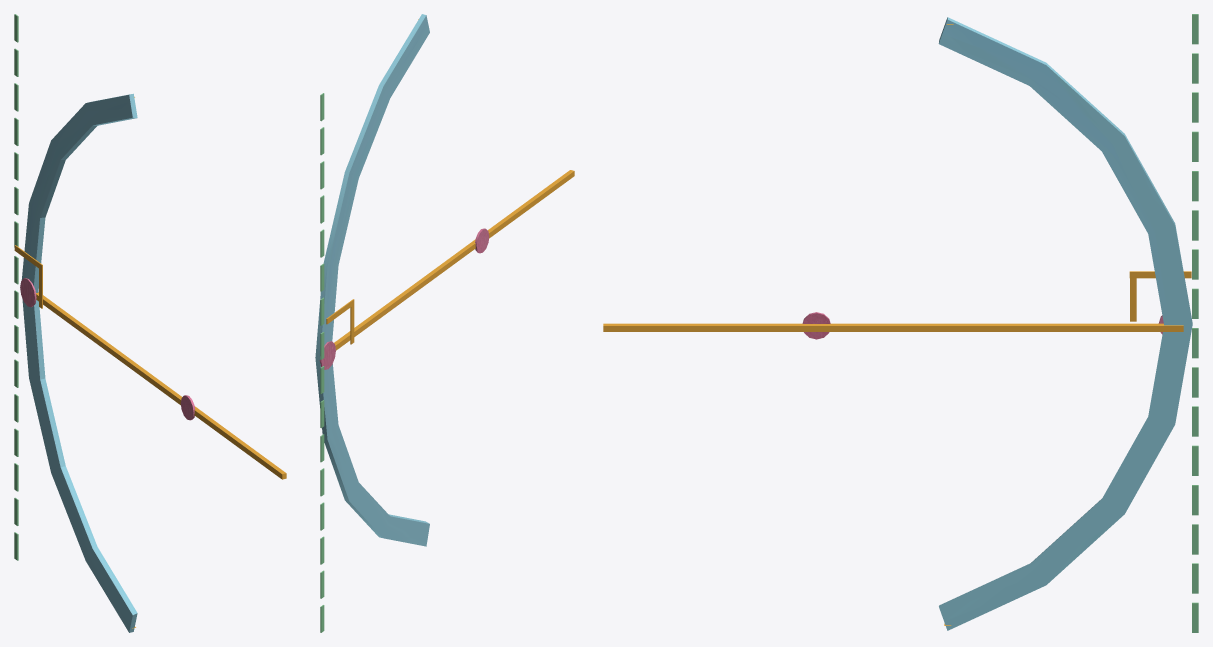
Rendered from principle_axis.fbx.
3 renders of one model, left to right at view 1: azimuth 30°, elevation 25°; view 2: azimuth 150°, elevation 25°; view 3: azimuth 270°, elevation 25°, orthographic. The views are drawn at different scales.
Parts seen in each view (by area): view 1: principole_axis; view 2: principole_axis; view 3: principole_axis.
Boxes of the visible parts, <box> form: principole_axis: <box>14,14,286,632</box>; principole_axis: <box>315,14,574,632</box>; principole_axis: <box>603,14,1198,632</box>.
Size of the model in its own units: 0.9712 by 39.03 by 34.06.
1 material, 1 textured.
